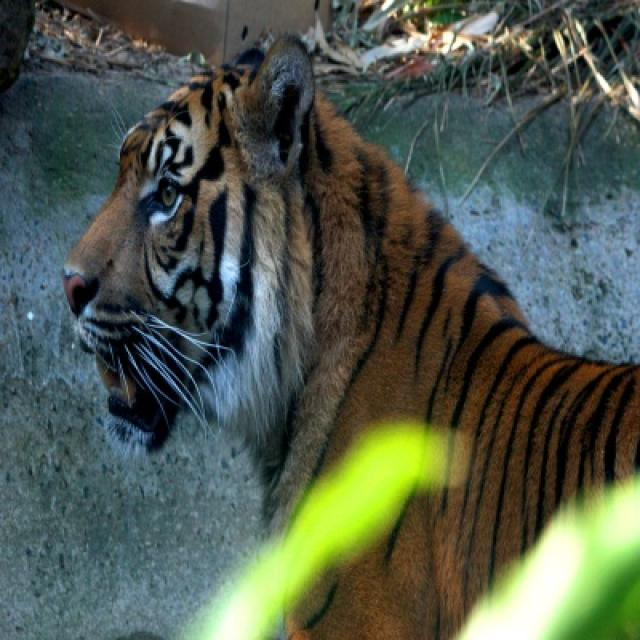Tiger: (57, 30, 638, 638)
